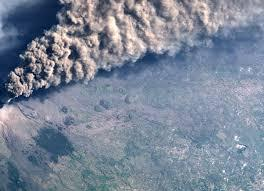Smoke: (8, 1, 237, 100)
